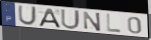0: (127, 16, 144, 35)
A: (38, 8, 62, 29)
L: (106, 13, 123, 34)
N: (82, 10, 102, 32)
U: (60, 9, 82, 31), (18, 5, 38, 27)
